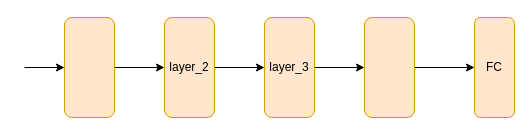
Some shapes in this 532 by 135 pixel diagram are drawn without their labels. Each missing label, with the centre of its shape:
"layer_1" belongs at [89,67].
"layer_4" belongs at [389,67].
